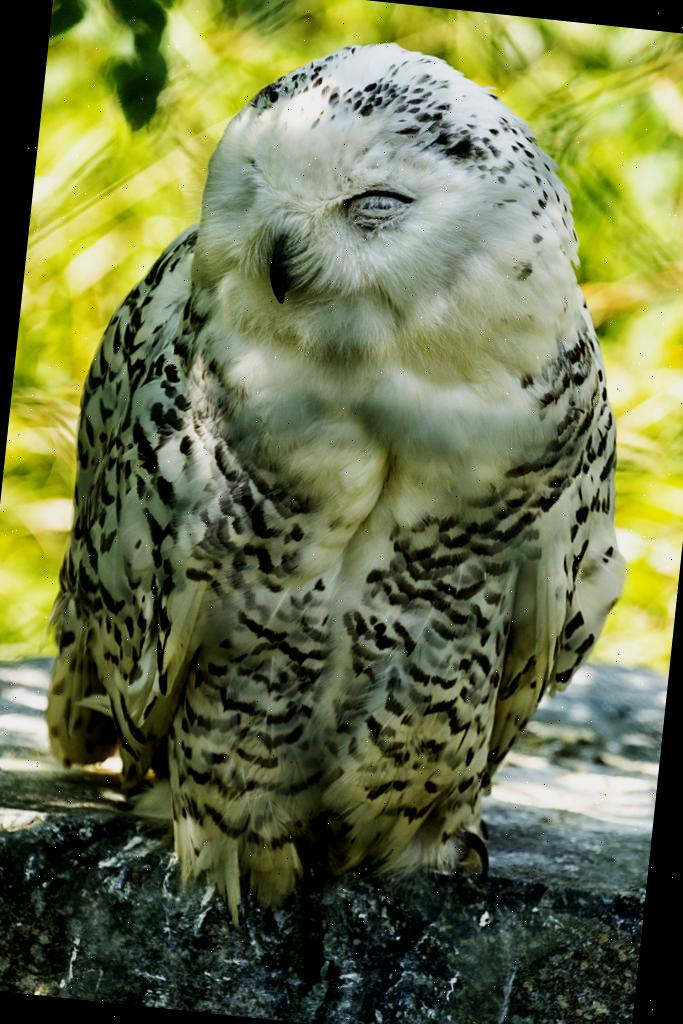Owl: (22, 12, 680, 963)
